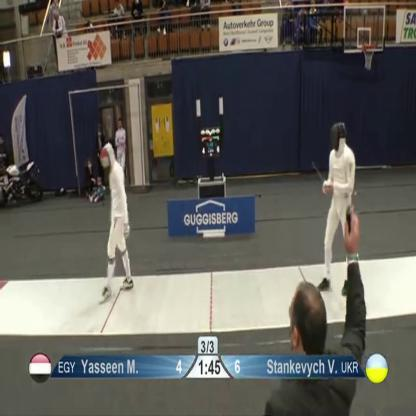crowd: (112, 117, 134, 181), (90, 119, 110, 177), (83, 161, 96, 203)
fencer: (308, 112, 370, 296), (88, 132, 141, 305)
referee: (254, 208, 371, 416)
